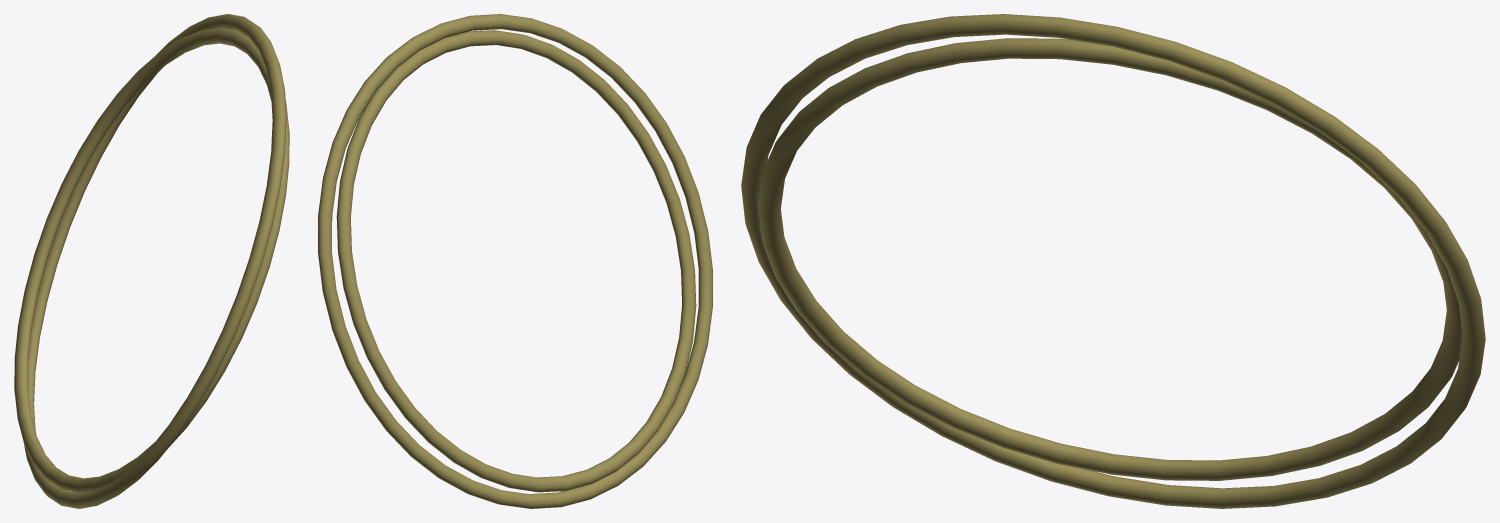
Rendered from jewel-1.glb.
3 views of the same model, side by side, from view 1: azimuth 30°, elevation 25°; view 2: azimuth 150°, elevation 25°; view 3: azimuth 270°, elevation 25° (orthographic). The views are drawn at different scales.
Visible parts, largest first — view 1: jewelry_store_066; view 2: jewelry_store_066; view 3: jewelry_store_066.
Boxes of the visible parts, <box> form: jewelry_store_066: <box>14,14,289,508</box>; jewelry_store_066: <box>318,14,712,508</box>; jewelry_store_066: <box>741,14,1485,508</box>.
Bounding box in the file's own units: 0.0359 × 0.0609 × 0.0659.
